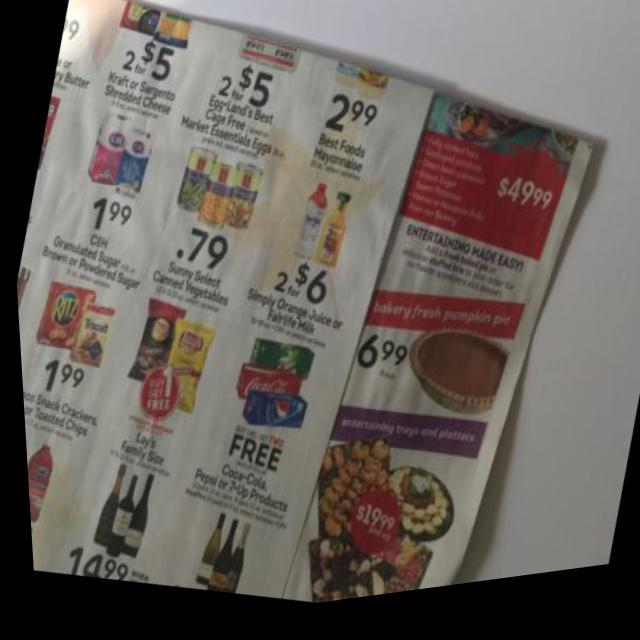paper: (0, 0, 640, 640)
